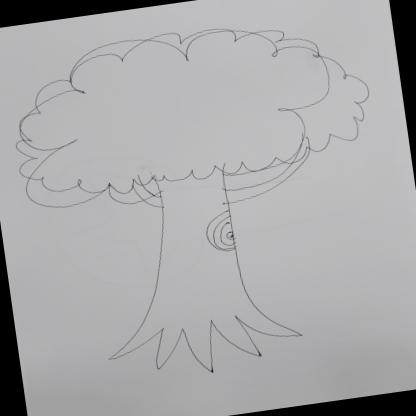crown_cloud: (0, 3, 380, 216)
knot: (198, 207, 239, 253)
root_only: (95, 288, 311, 388)
trunk_straight: (147, 204, 243, 286)
